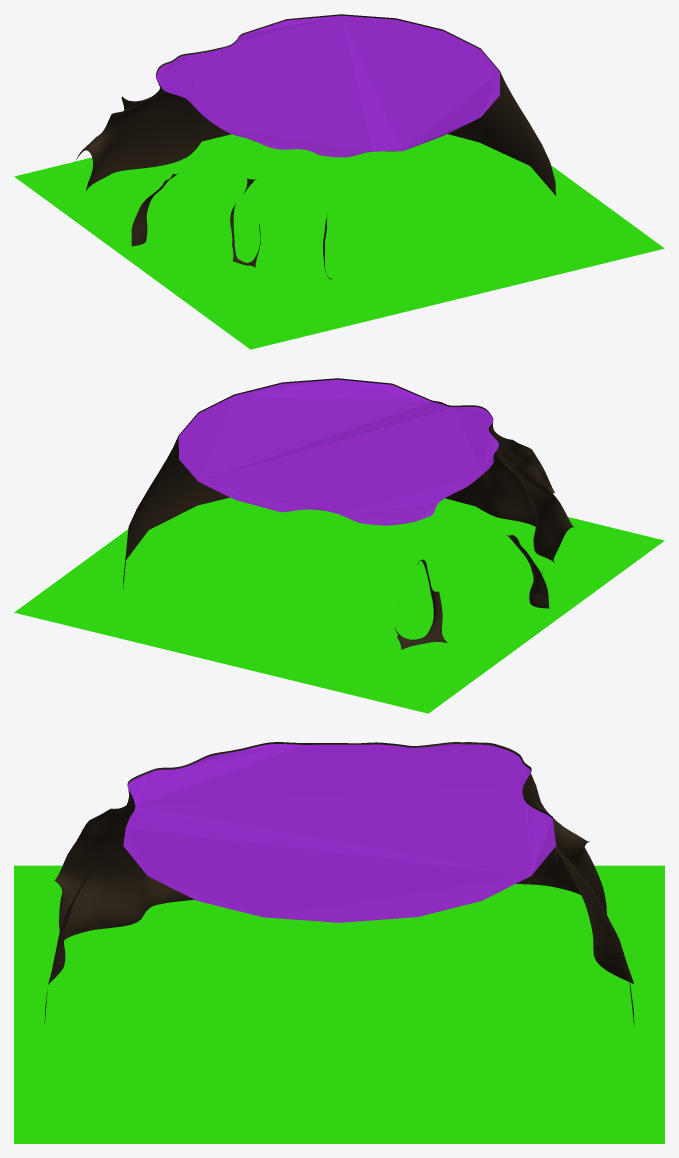
Rendered from Pièce.fbx.
The picture shows the model from 3 angles, top to bottom: view 1: azimuth 30°, elevation 25°; view 2: azimuth 150°, elevation 25°; view 3: azimuth 270°, elevation 25°; orthographic projection. The views are drawn at different scales.
Visible parts, largest first — view 1: Sol, Plafond, Murs; view 2: Sol, Plafond, Murs; view 3: Sol, Plafond, Murs.
Part boxes in pixels (left/top/right/bottom): Sol: left=14, top=134, right=664, bottom=349; Plafond: left=156, top=15, right=499, bottom=157; Murs: left=75, top=14, right=555, bottom=279; Sol: left=14, top=497, right=664, bottom=713; Plafond: left=178, top=379, right=498, bottom=525; Murs: left=123, top=378, right=574, bottom=649; Sol: left=14, top=865, right=664, bottom=1143; Plafond: left=123, top=744, right=556, bottom=922; Murs: left=44, top=742, right=634, bottom=1025.
Bounding box in the file's own units: 11.58 × 3.47 × 11.45.
